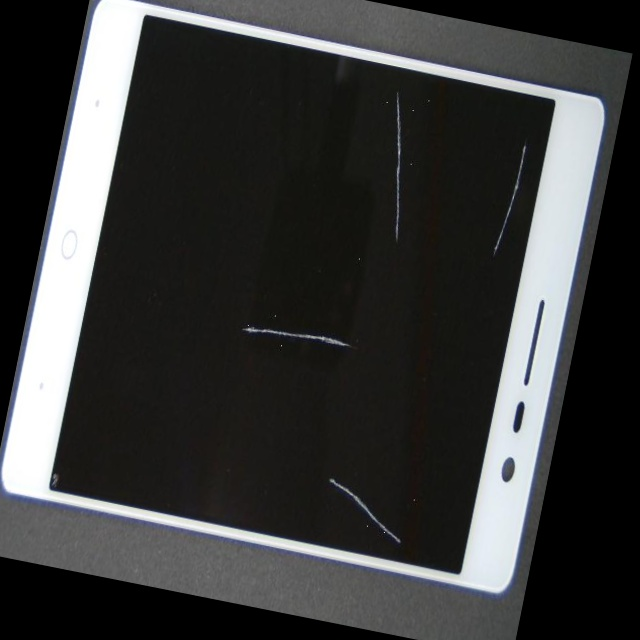scratch: (92, 184, 566, 640), (133, 153, 523, 574), (240, 112, 608, 419), (234, 0, 559, 172)
